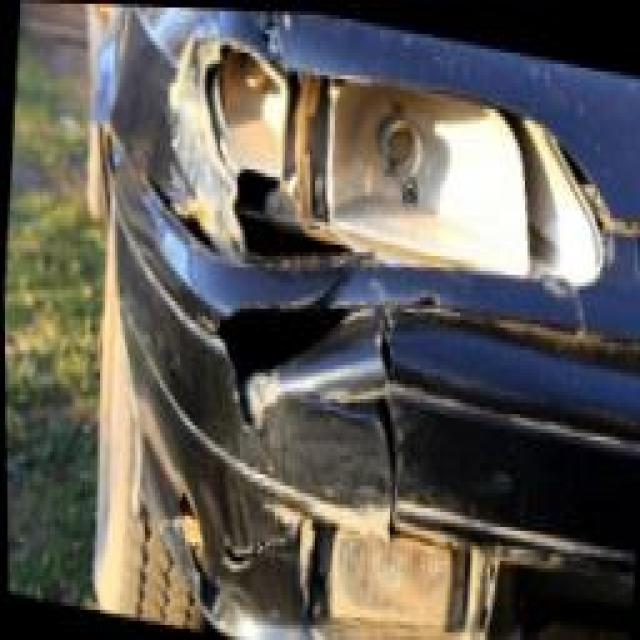Bumper: (90, 184, 640, 640)
Light: (175, 38, 615, 264)
